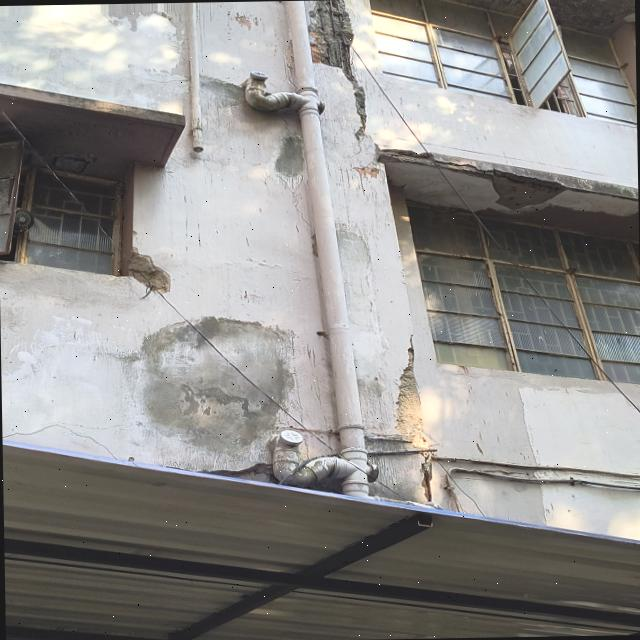Incomplete Plaster Work: (140, 316, 294, 466), (508, 204, 638, 240), (195, 76, 298, 118), (274, 135, 304, 177), (479, 209, 506, 218)
Paint Peeling: (107, 2, 189, 77), (353, 166, 379, 179), (234, 13, 251, 29)
Scaling: (548, 0, 634, 36), (444, 0, 530, 17)
Spalling: (306, 0, 366, 139), (491, 173, 564, 211), (373, 143, 442, 168)
pollution -moisture induced blackening: (548, 0, 634, 36), (447, 0, 530, 17)
